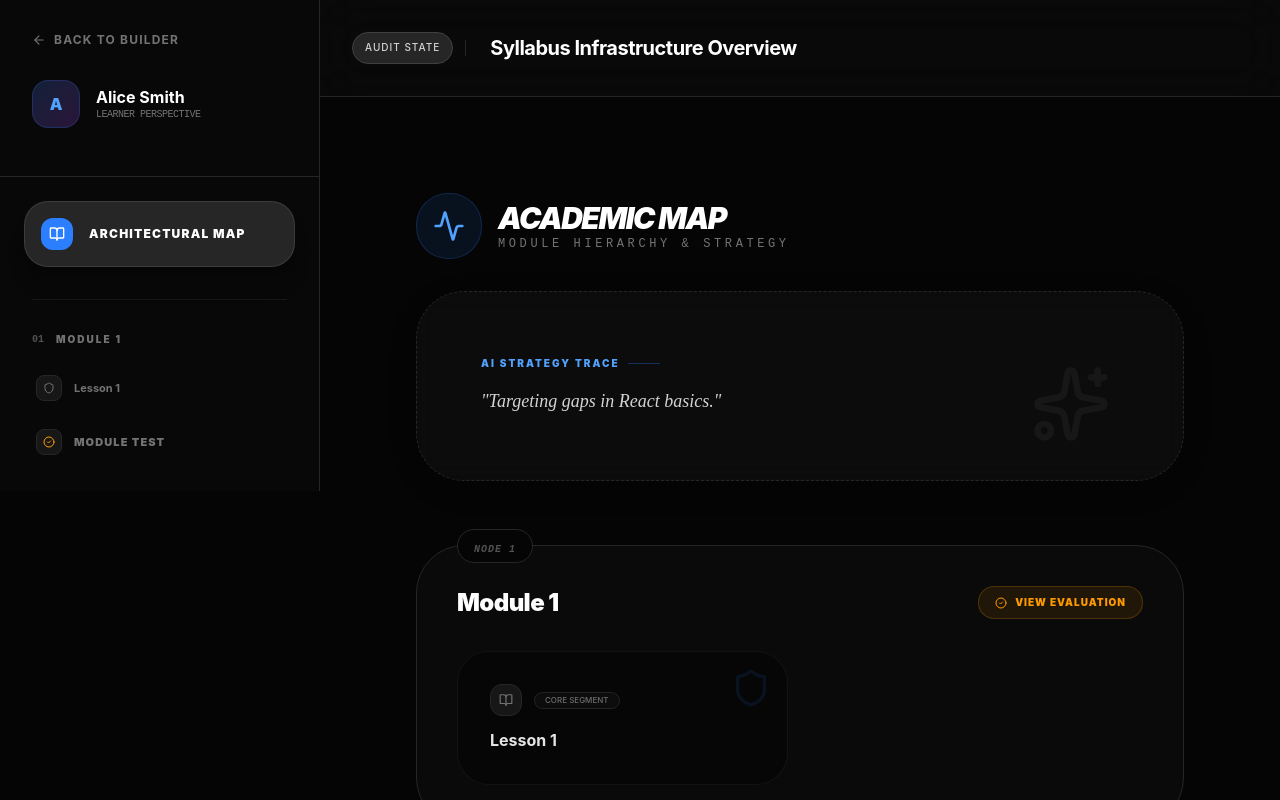
Test case: CandidatePerspective Component › displays assessment audit details
The width and height of the screenshot is (1280, 800).
Step 1. Click the button "View Evaluation" → point(1061, 603), box [978,586,1143,619]
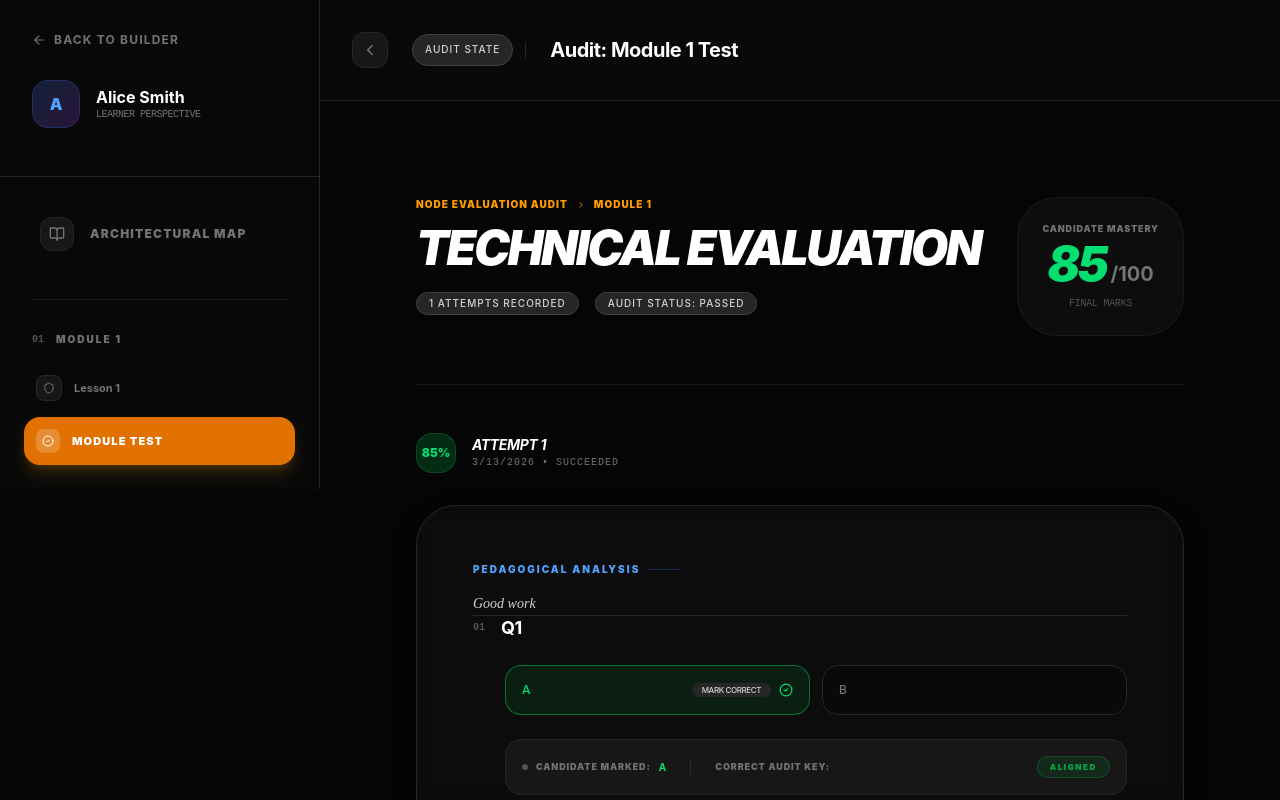
expect the heading "Technical Evaluation" is shown: met, box [416,224,980,272]
expect the text "85" is shown: met, box [1048,240,1106,288]
expect the text "Audit Status: PASSED" is shown: met, box [595,292,758,315]
